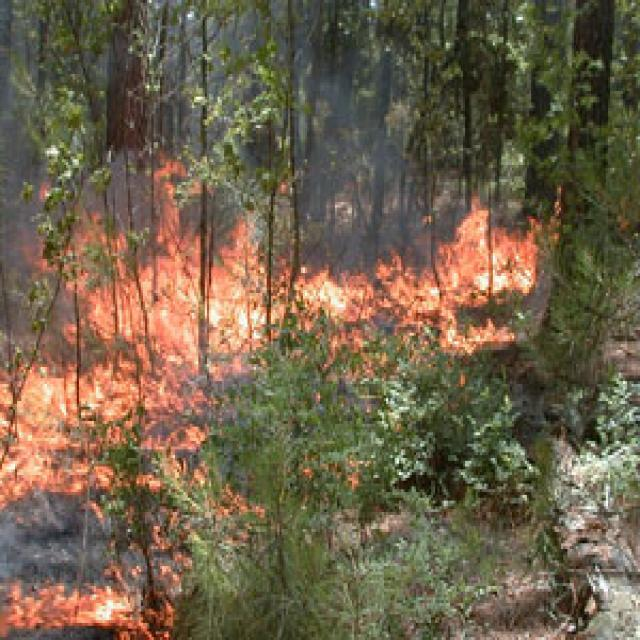Fire: (0, 140, 574, 376), (0, 322, 298, 537), (0, 515, 209, 640)
